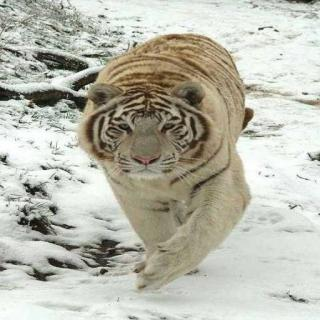Tiger: (64, 7, 280, 290)
